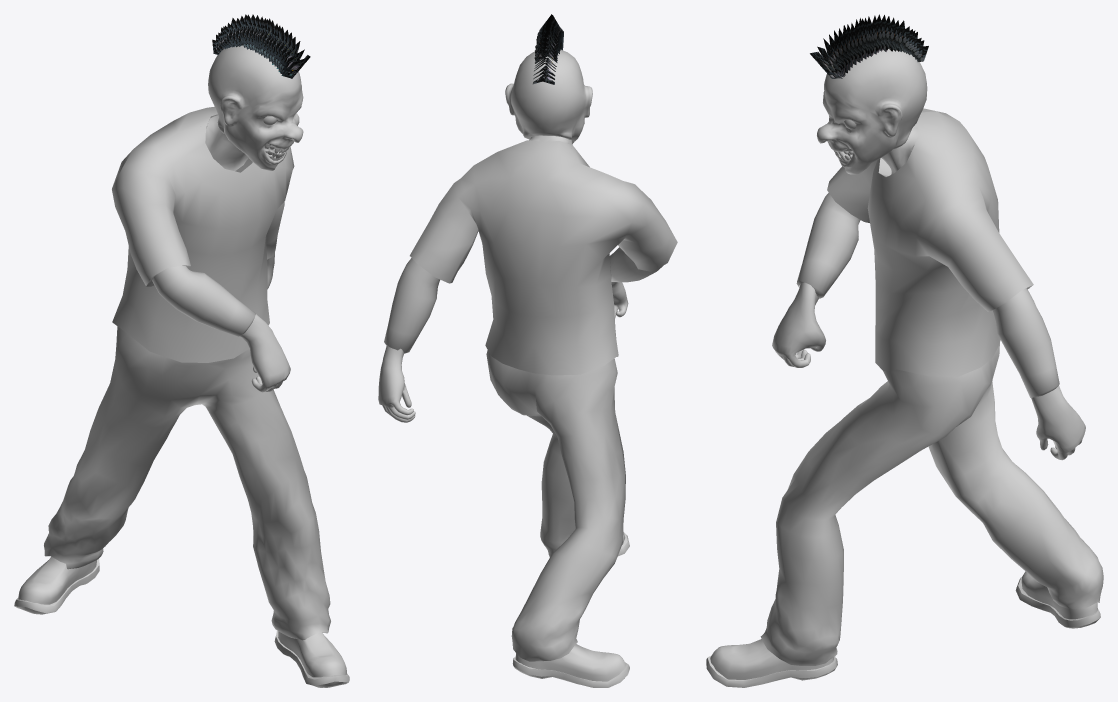
File: Attack01 (45).obj
The picture shows the model from 3 angles, left to right: view 1: azimuth 30°, elevation 25°; view 2: azimuth 150°, elevation 25°; view 3: azimuth 270°, elevation 25°; orthographic projection. The views are drawn at different scales.
Visible parts, largest first — view 1: pants, shirt, head, forearm_band_01, Hair, boots, boots001, hand_right, neck; view 2: shirt, pants, head, forearm_band_002, boots, hand_left, Hair, forearm_band_01, hand_right; view 3: pants, shirt, head, forearm_band_002, Hair, forearm_band_01, boots001, hand_right, hand_left, boots, neck.
Boxes of the visible parts, box(x1,y1,x2,y2) form: pants: box(44, 326, 330, 640); shirt: box(112, 106, 294, 362); head: box(208, 45, 303, 170); forearm_band_01: box(152, 265, 255, 336); Hair: box(212, 14, 310, 78); boots: box(14, 556, 99, 614); boots001: box(274, 630, 349, 687); hand_right: box(240, 314, 290, 392); neck: box(200, 115, 248, 171); shirt: box(409, 140, 677, 375); pants: box(486, 350, 625, 661); head: box(505, 49, 592, 143); forearm_band_002: box(384, 258, 439, 353); boots: box(512, 644, 629, 687); hand_left: box(378, 346, 415, 422); Hair: box(533, 14, 563, 84); forearm_band_01: box(609, 247, 663, 282); hand_right: box(611, 282, 628, 317); pants: box(760, 343, 1103, 665); shirt: box(827, 108, 1033, 376); head: box(817, 49, 927, 174); forearm_band_002: box(992, 288, 1059, 397); Hair: box(810, 14, 928, 78); forearm_band_01: box(796, 193, 860, 298); boots001: box(706, 639, 837, 687); hand_right: box(772, 282, 825, 367); hand_left: box(1031, 385, 1085, 460); boots: box(1015, 571, 1100, 628); neck: box(881, 123, 918, 174).
Size of the model in its own units: 78.58 by 180 by 98.03.
